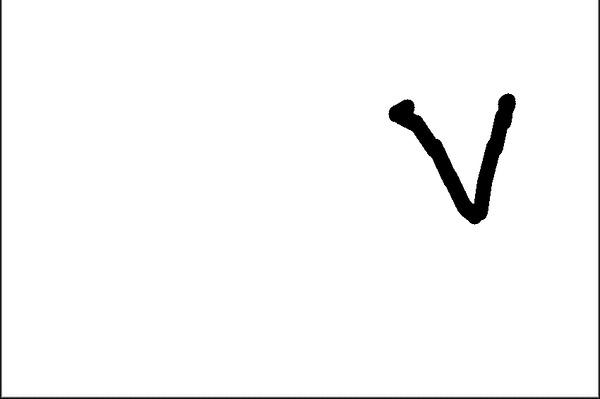V: (379, 83, 523, 239)
